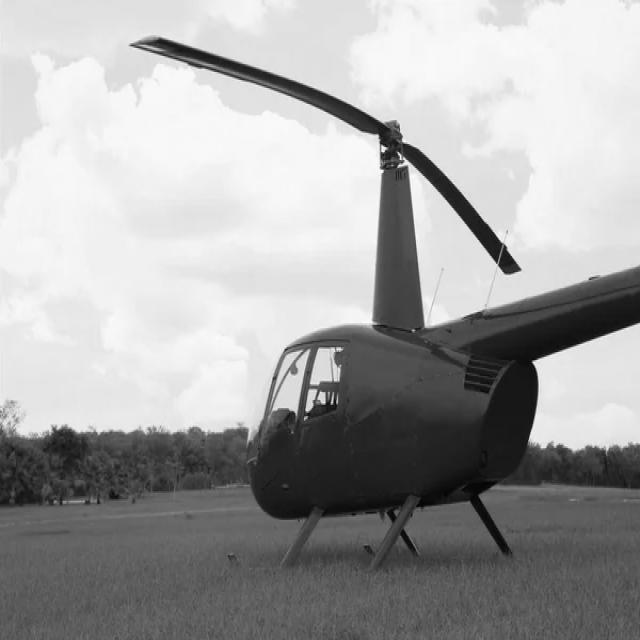Helicopter: (136, 36, 640, 574)
